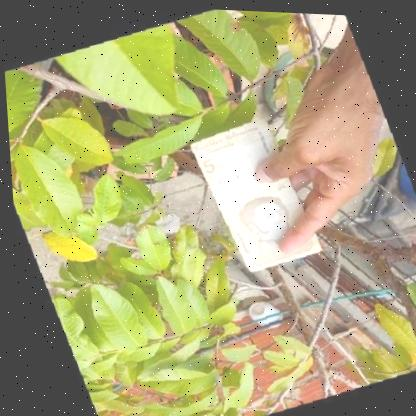vef_front: (182, 108, 322, 278)
